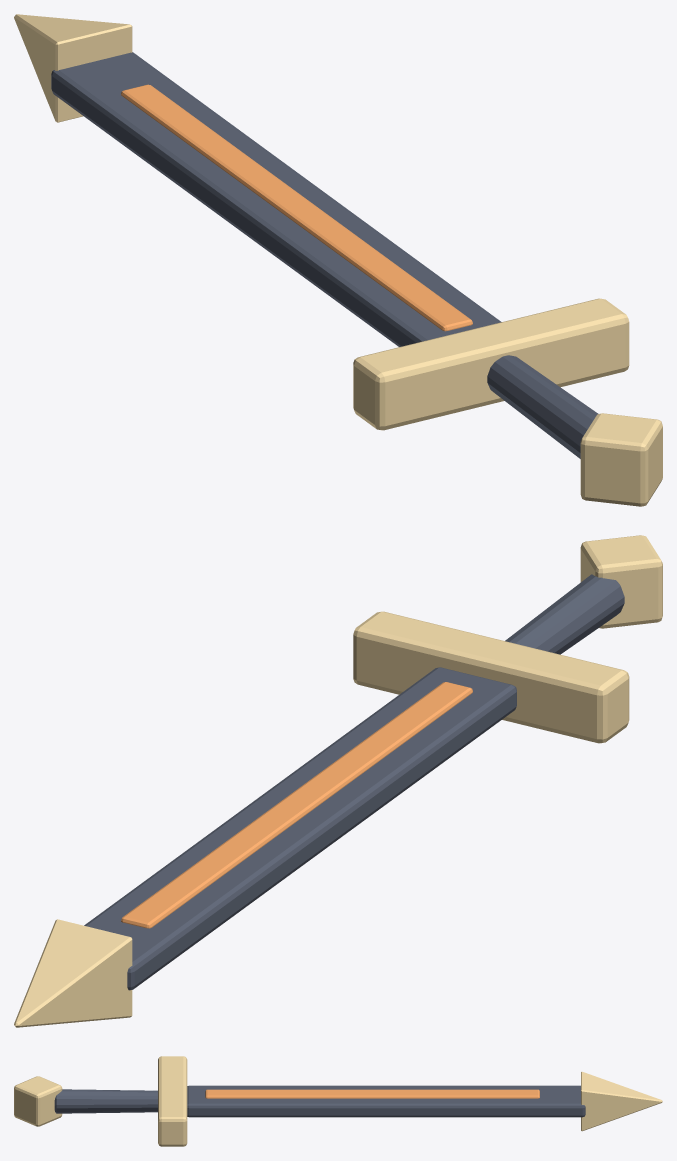
Rendered from Weapon_SolarGreatsword.fbx.
3 renders of one model, top to bottom at view 1: azimuth 30°, elevation 25°; view 2: azimuth 150°, elevation 25°; view 3: azimuth 270°, elevation 25°, orthographic. The views are drawn at different scales.
Parts seen in each view (by area): view 1: Blade, Crossguard, SolarCore, Pommel, BladeTip, Grip; view 2: Blade, Crossguard, SolarCore, BladeTip, Pommel, Grip; view 3: Blade, SolarCore, Crossguard, BladeTip, Grip, Pommel.
Boxes of the visible parts, box(x1,y1,x2,y2) form: Blade: box(51, 52, 501, 346); Crossguard: box(353, 298, 629, 430); SolarCore: box(121, 84, 472, 331); Pommel: box(580, 413, 662, 506); BladeTip: box(14, 14, 132, 122); Grip: box(487, 355, 598, 458); Blade: box(84, 667, 516, 990); Crossguard: box(353, 611, 629, 743); SolarCore: box(121, 682, 472, 928); BladeTip: box(14, 919, 132, 1027); Pommel: box(580, 535, 662, 628); Grip: box(505, 574, 624, 654); Blade: box(187, 1085, 585, 1117); SolarCore: box(205, 1089, 539, 1098); Crossguard: box(158, 1056, 187, 1146); BladeTip: box(581, 1071, 662, 1131); Grip: box(54, 1089, 157, 1113); Pommel: box(14, 1076, 62, 1126).
Size of the model in its own units: 0.46 by 0.1396 by 1.98.
